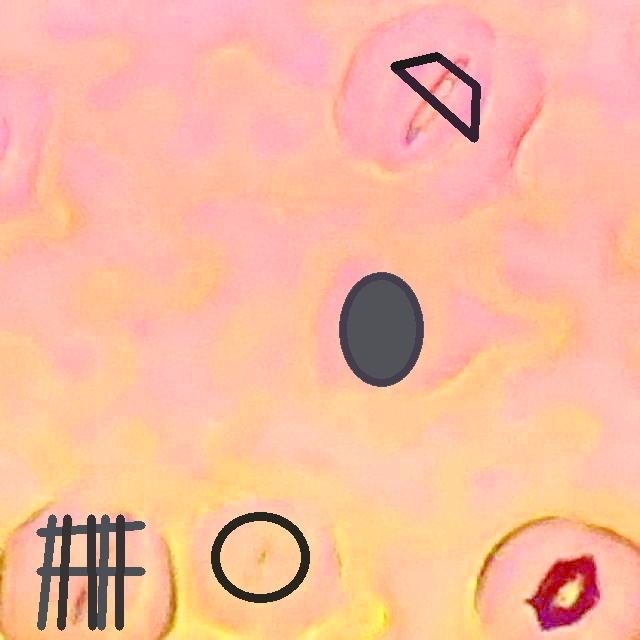close: (210, 512, 311, 602)
open: (36, 514, 145, 630), (339, 272, 423, 386), (391, 53, 479, 141)
